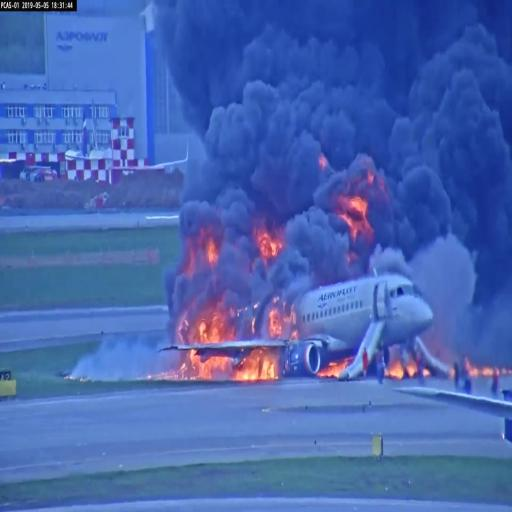fire: (183, 354, 274, 384), (195, 307, 234, 343)
smoke: (182, 6, 512, 166)
